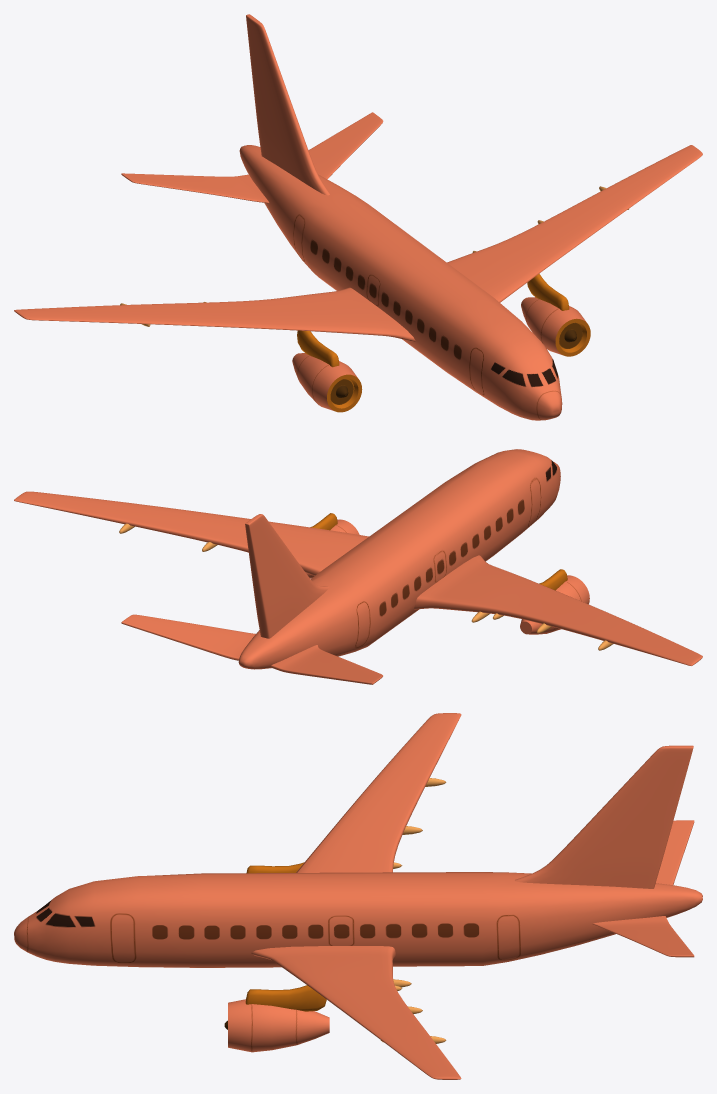
File: airbus318_orange.glb
3 views of the same model, one above another, from view 1: azimuth 30°, elevation 25°; view 2: azimuth 150°, elevation 25°; view 3: azimuth 270°, elevation 25° (orthographic). The views are drawn at different scales.
Visible parts, largest first — view 1: airbus318, wings, wing-back-vertical, turbine, wings-back-horizontal, turbine-pad; view 2: airbus318, wings, wing-back-vertical, wings-back-horizontal, turbine, turbine-pad; view 3: airbus318, wings, wing-back-vertical, turbine, wings-back-horizontal, turbine-pad.
Part boxes in pixels (x1,y1,x2,y2): airbus318: (239, 145, 562, 420); wings: (14, 145, 702, 341); wing-back-vertical: (246, 14, 329, 195); turbine: (292, 297, 590, 412); wings-back-horizontal: (121, 112, 383, 203); turbine-pad: (297, 273, 569, 367); airbus318: (238, 449, 560, 669); wings: (14, 491, 702, 665); wing-back-vertical: (245, 514, 329, 638); wings-back-horizontal: (121, 614, 382, 684); turbine: (306, 519, 589, 634); turbine-pad: (310, 513, 567, 590); airbus318: (14, 872, 702, 967); wings: (251, 713, 461, 1079); wing-back-vertical: (515, 745, 693, 888); turbine: (224, 999, 329, 1052); wings-back-horizontal: (592, 820, 694, 957); turbine-pad: (245, 862, 326, 1011).
Bounding box in the file's own units: 4.66 × 1.44 × 3.71.
Materials: 1 (1 with a texture image).
